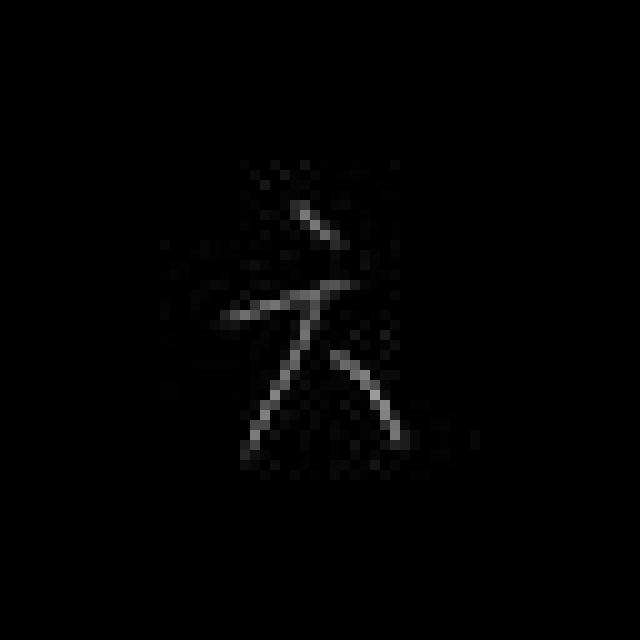6 -six-: (228, 198, 408, 461)
